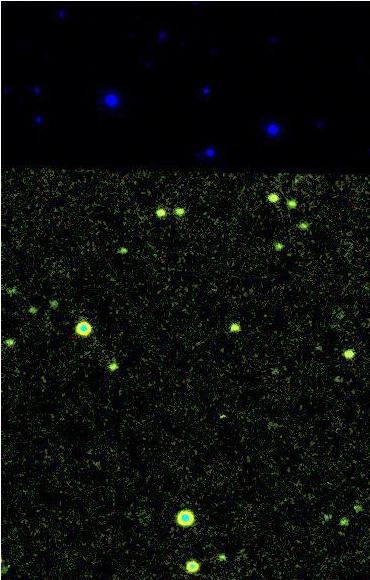star: (209, 400, 239, 430)
